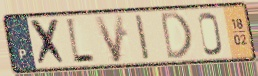0: (197, 11, 224, 57)
D: (159, 10, 194, 63)
I: (133, 12, 153, 62)
L: (63, 16, 97, 66)
V: (92, 12, 126, 65)
X: (28, 16, 69, 68)
